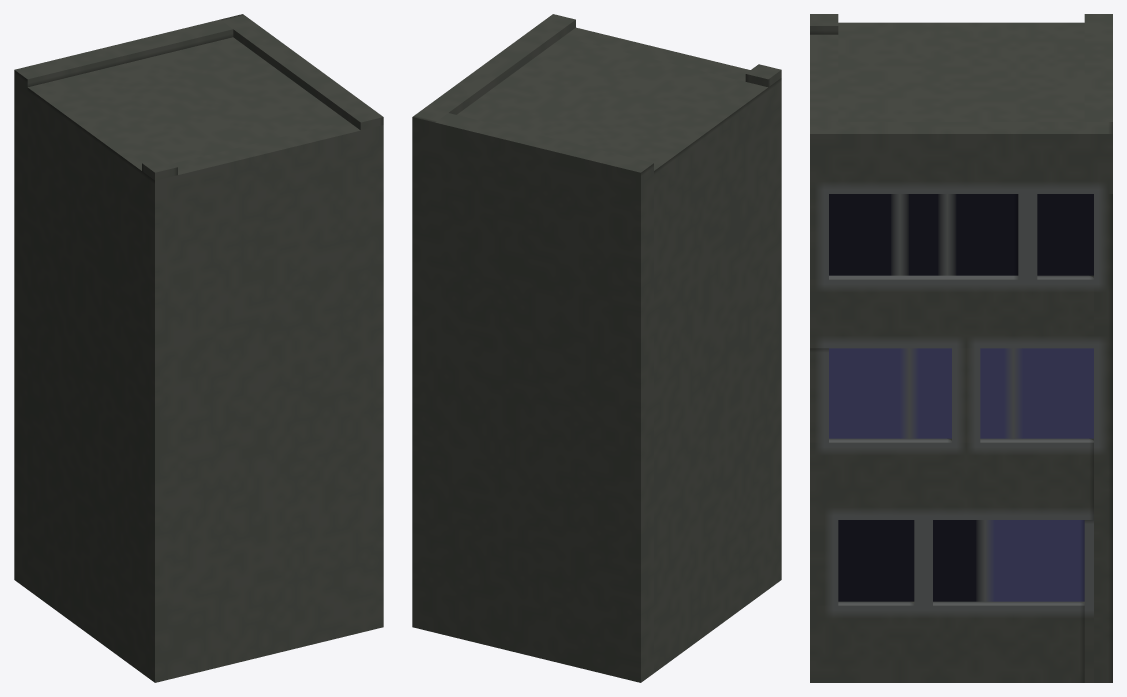
The model's file is u_dom_okna_03_bok_p.dae.
3 views of the same model, side by side, from view 1: azimuth 30°, elevation 25°; view 2: azimuth 150°, elevation 25°; view 3: azimuth 270°, elevation 25° (orthographic). The views are drawn at different scales.
Parts seen in each view (by area): view 1: Content; view 2: Content; view 3: Content.
Part boxes in pixels (box(x1,y1,x2,y2)): Content: box(14, 14, 383, 682); Content: box(412, 14, 781, 682); Content: box(810, 14, 1112, 682).
Size of the model in its own units: 30 by 64 by 32.
Materials: 1 (1 with a texture image).
